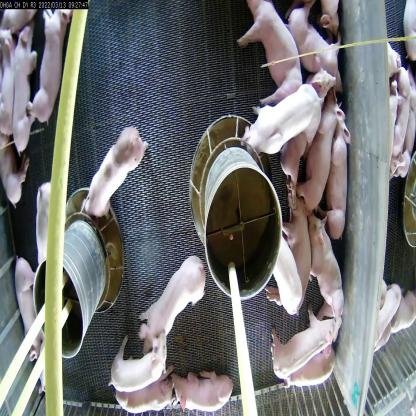Pig: (139, 250, 206, 348), (82, 124, 142, 220), (233, 0, 300, 82), (254, 72, 314, 153), (301, 93, 346, 198), (301, 215, 340, 329), (33, 15, 71, 123), (13, 32, 39, 162), (272, 304, 320, 373), (282, 187, 309, 305), (21, 182, 57, 268), (181, 366, 241, 416), (118, 368, 176, 415), (108, 333, 166, 378), (283, 344, 334, 390), (270, 244, 296, 316)
